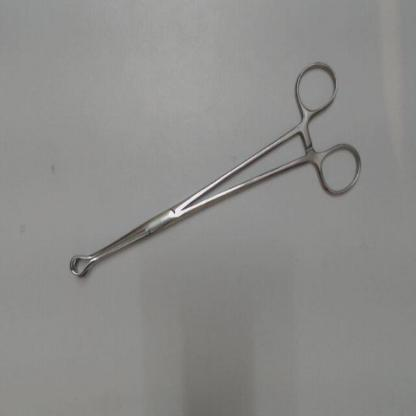8 Babcock Tissue Forceps: (66, 54, 367, 283)
